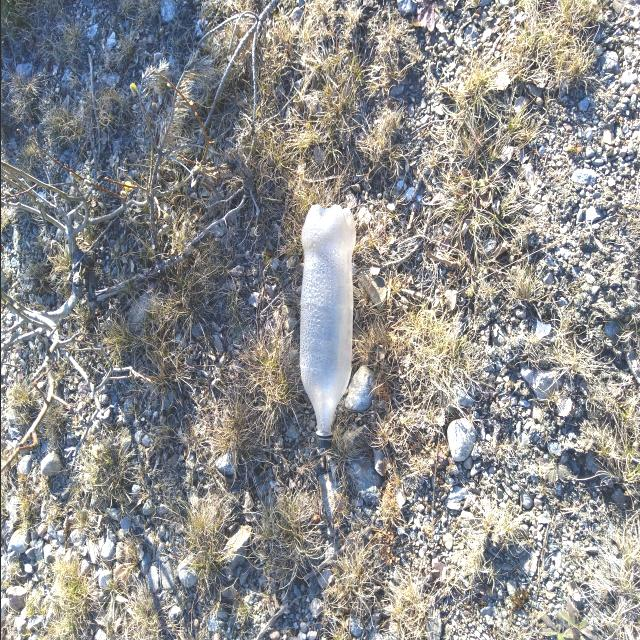Clear plastic bottle: (299, 205, 355, 448)
Plastic bottle cap: (315, 438, 331, 448)
